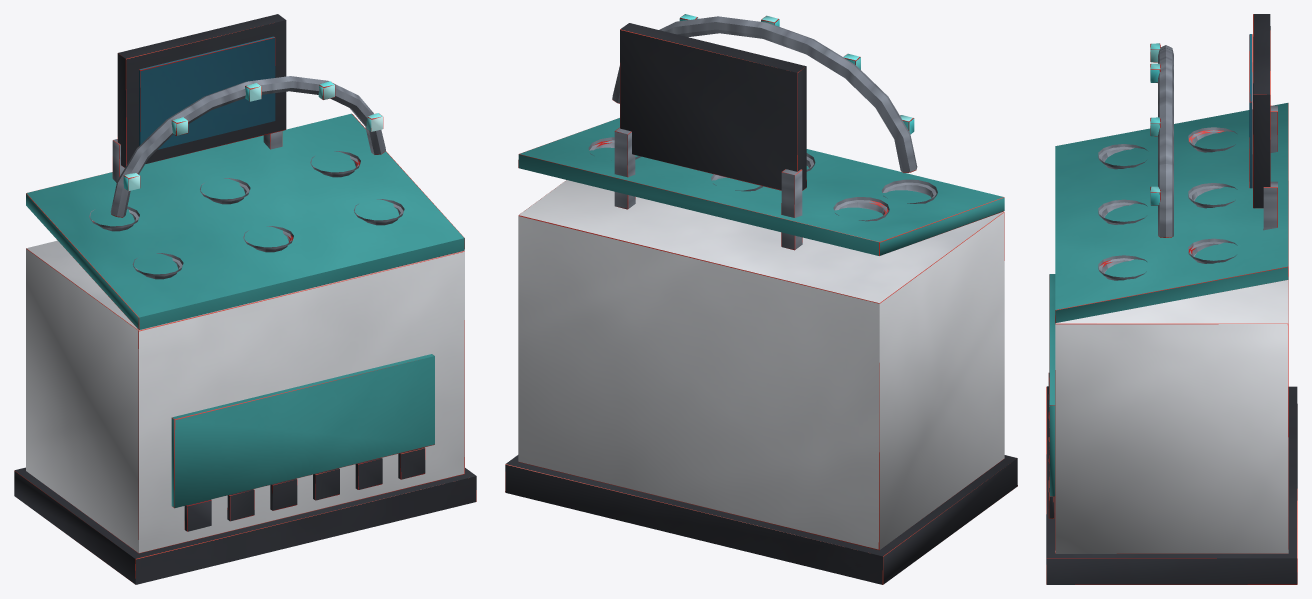
Rendered from Env_Prop_HealingMachine_LOD1.fbx.
The picture shows the model from 3 angles, left to right: view 1: azimuth 30°, elevation 25°; view 2: azimuth 150°, elevation 25°; view 3: azimuth 270°, elevation 25°; orthographic projection. The views are drawn at different scales.
Parts seen in each view (by area): view 1: Env_Prop_HealingMachine_LOD1; view 2: Env_Prop_HealingMachine_LOD1; view 3: Env_Prop_HealingMachine_LOD1.
Boxes of the visible parts, left/top/right/bottom form: Env_Prop_HealingMachine_LOD1: left=14, top=14, right=476, bottom=584; Env_Prop_HealingMachine_LOD1: left=505, top=14, right=1017, bottom=584; Env_Prop_HealingMachine_LOD1: left=1046, top=14, right=1297, bottom=584.
Size of the model in its own units: 136 by 83.86 by 164.
